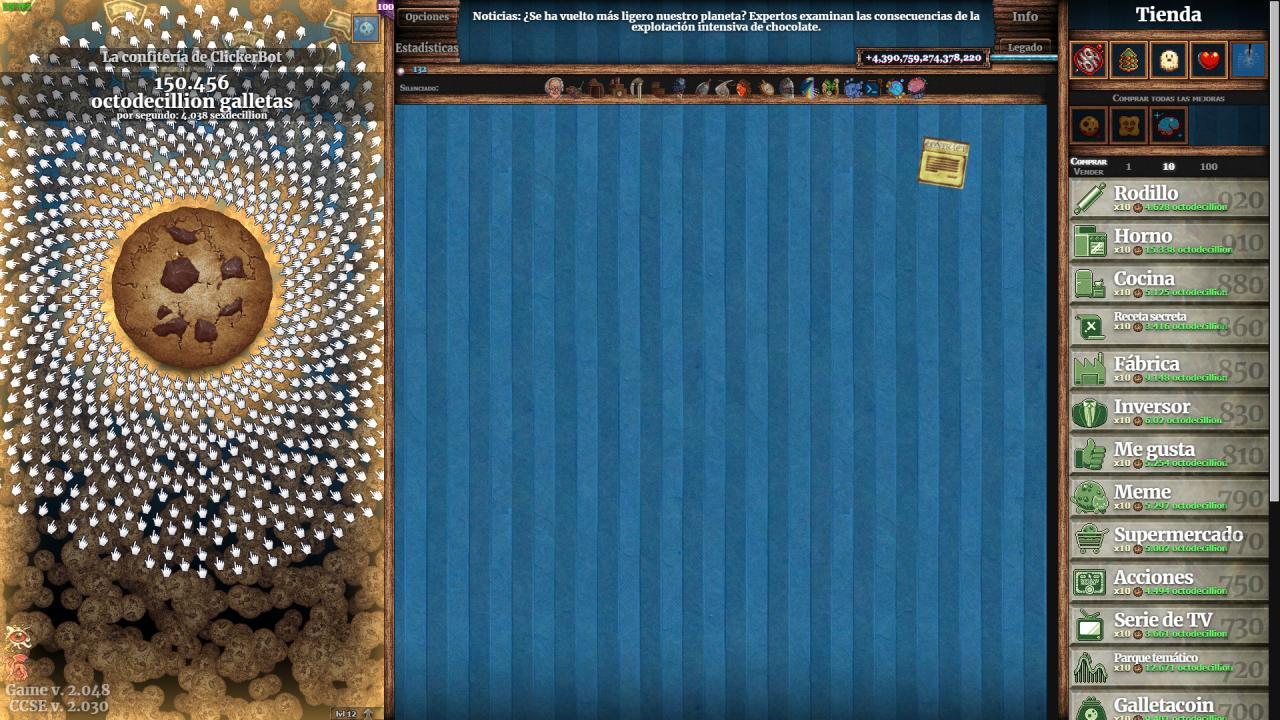GoldenCartridge: (915, 134, 972, 191)
